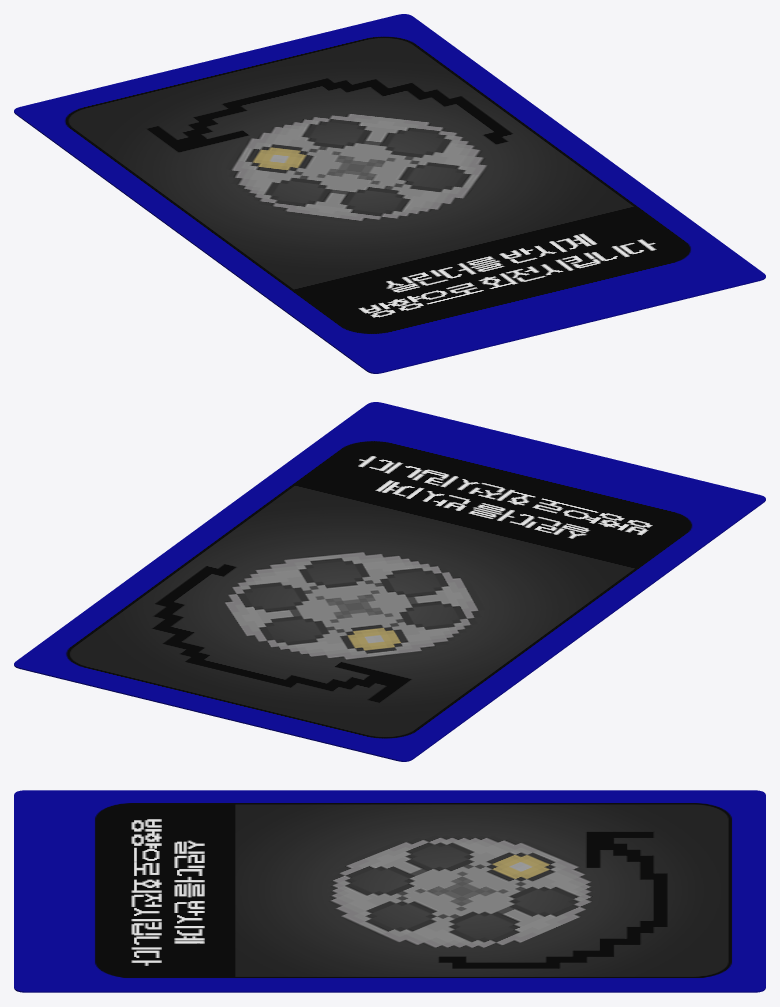
Rendered from SilnderRotation Card.fbx.
The picture shows the model from 3 angles, top to bottom: view 1: azimuth 30°, elevation 25°; view 2: azimuth 150°, elevation 25°; view 3: azimuth 270°, elevation 25°; orthographic projection. The views are drawn at different scales.
Parts seen in each view (by area): view 1: Box001; view 2: Box001; view 3: Box001.
Part boxes in pixels (box(x1,y1,x2,y2)): Box001: box(14, 14, 765, 373); Box001: box(14, 402, 765, 761); Box001: box(14, 790, 765, 992).
Size of the model in its own units: 74.8 by 0.1969 by 118.
